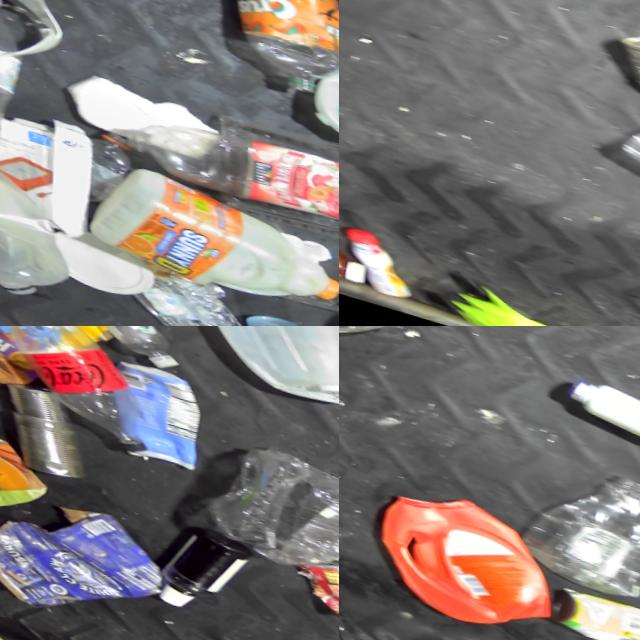can: (0, 375, 87, 482), (521, 573, 640, 640), (271, 533, 339, 634), (593, 16, 640, 100)
milk_jug: (160, 326, 339, 417), (0, 130, 82, 305)
non_white_jug: (339, 465, 573, 640), (81, 155, 339, 310)
plastic_bottle: (118, 96, 339, 220), (0, 326, 182, 455), (129, 260, 251, 326), (14, 326, 188, 369), (0, 0, 45, 156)
